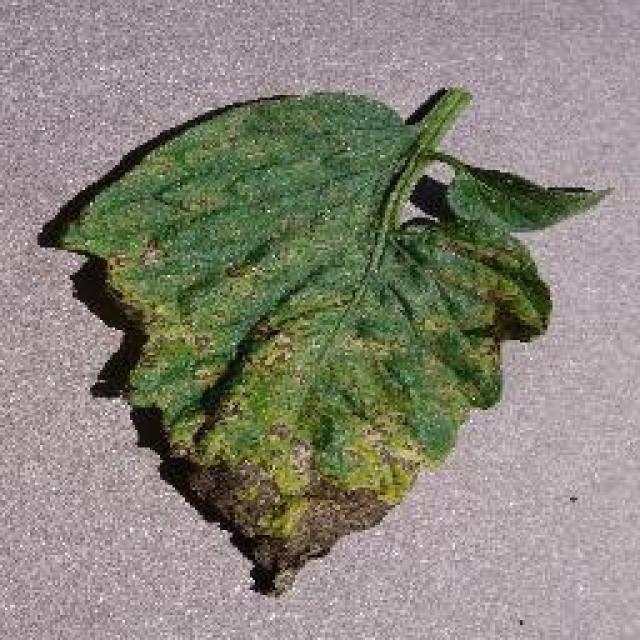Tomato___Septoria_leaf_spot: (42, 88, 605, 590)
